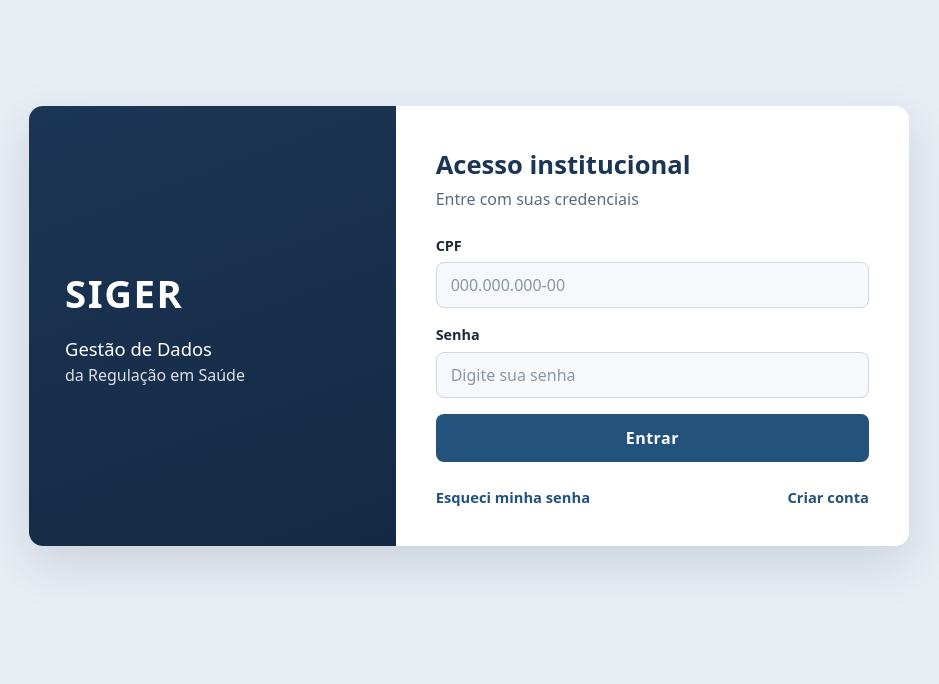
Scenario: navega entre login, cadastro e redefinição
The width and height of the screenshot is (939, 684).
Click the button "Criar conta" at (828, 497), box [787,480,869,514]
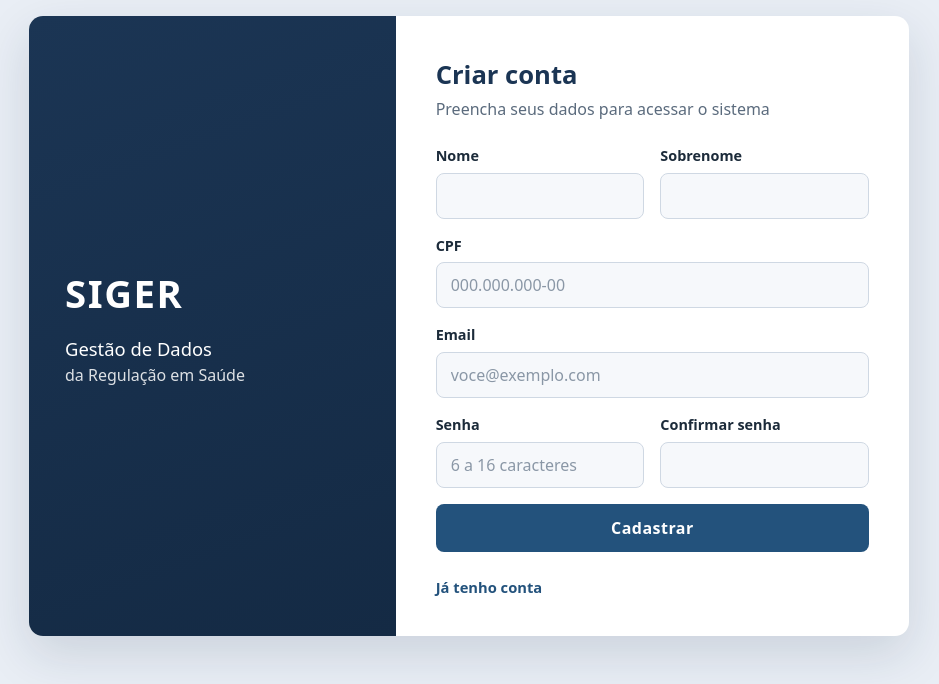
Now the heading "Criar conta" is shown, box [436,57,578,92]
Click the button "Já tenho conta" at (489, 587), box [436,570,542,604]
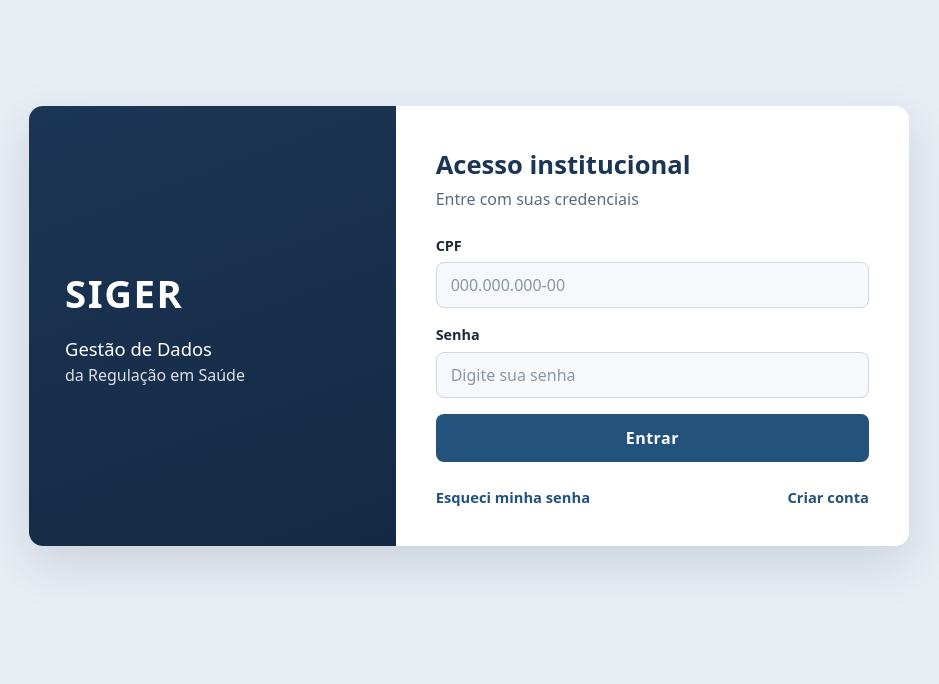
Click the button "Esqueci minha senha" at (513, 497), box [436,480,590,514]
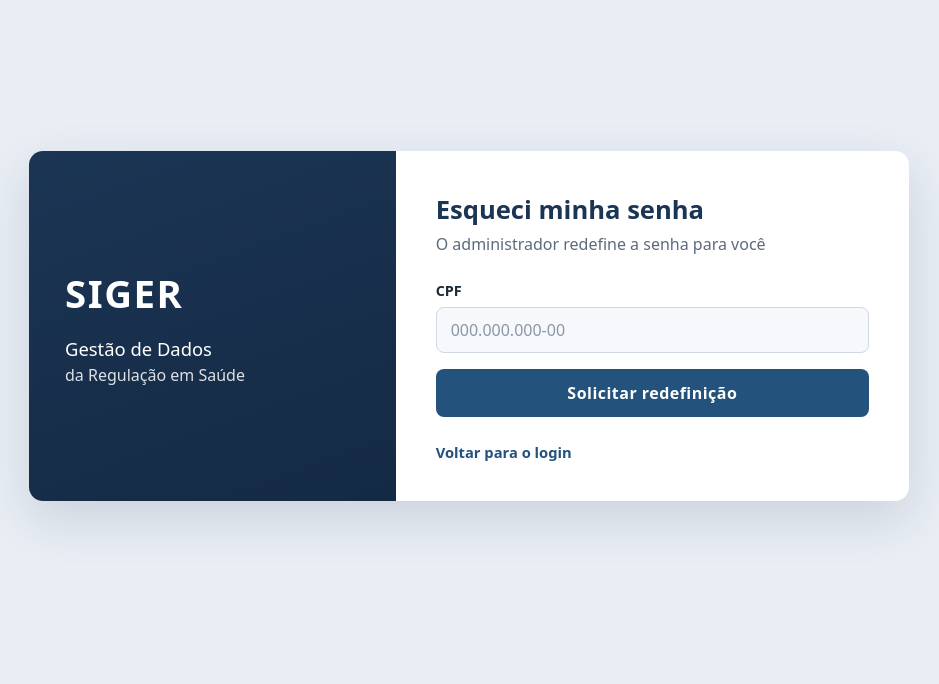
Now the heading "Esqueci minha senha" is shown, box [436,192,704,227]
